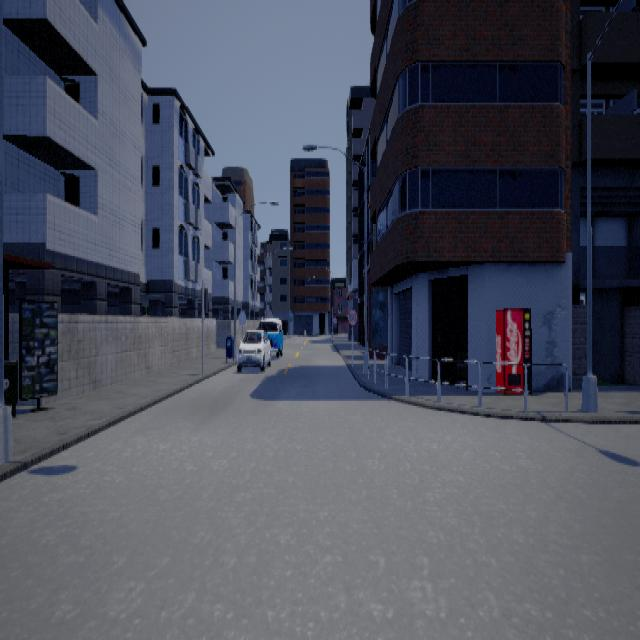traffic_sign: (347, 307, 357, 325)
vehicle: (236, 317, 270, 374), (256, 312, 282, 361)
